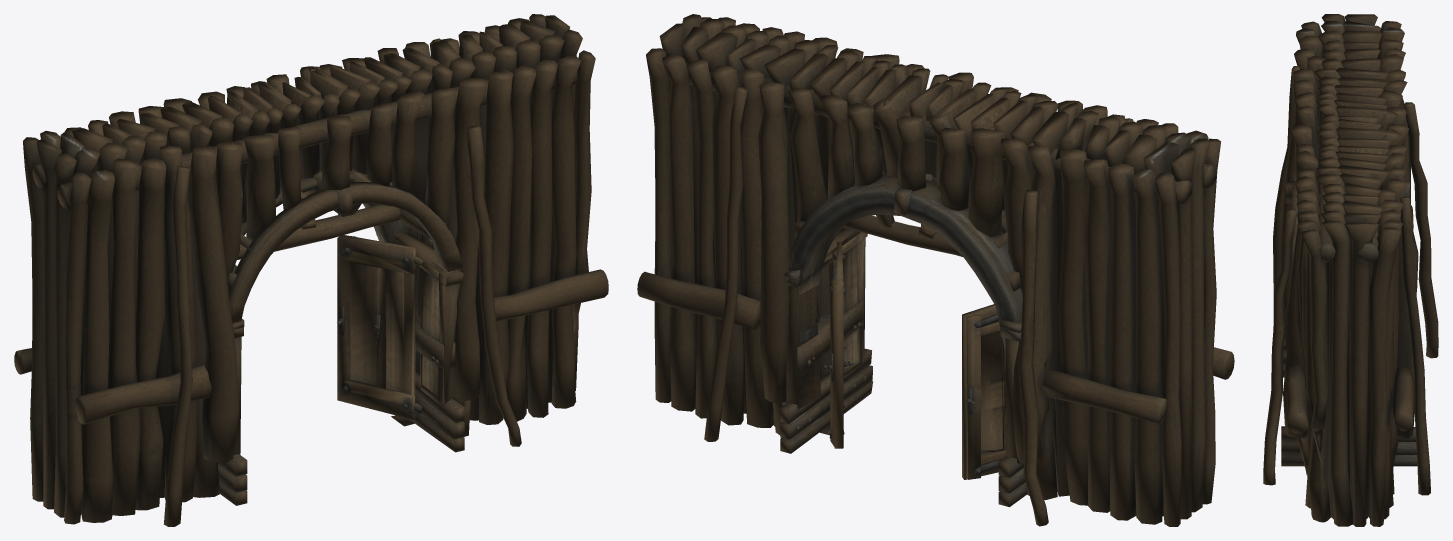
Rendered from kapi_ic.glb.
The picture shows the model from 3 angles, left to right: view 1: azimuth 30°, elevation 25°; view 2: azimuth 150°, elevation 25°; view 3: azimuth 270°, elevation 25°; orthographic projection. The views are drawn at different scales.
Size of the model in its own units: 0.9565 by 0.6343 by 0.332.
Materials: 1 (1 with a texture image).
